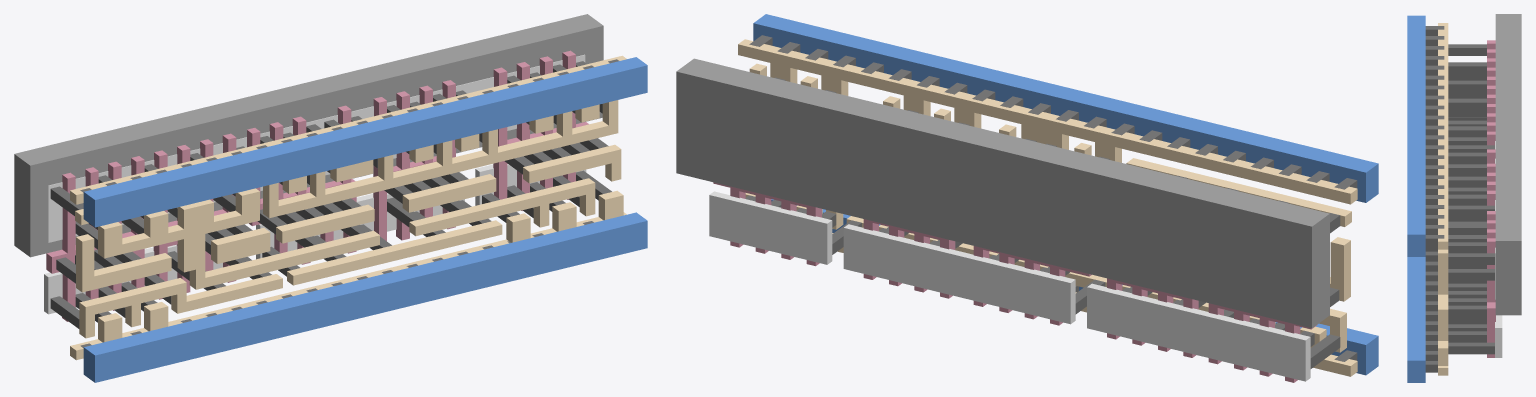
The model's file is sky130_fd_sc_hd__a32oi_4.gds.gltf.
3 renders of one model, left to right at view 1: azimuth 30°, elevation 25°; view 2: azimuth 150°, elevation 25°; view 3: azimuth 270°, elevation 25°, orthographic. The views are drawn at different scales.
Visible parts, largest first — view 1: sky130_fd_sc_hd__a32oi_4_li1, sky130_fd_sc_hd__a32oi_4_met1, sky130_fd_sc_hd__a32oi_4_nwell, sky130_fd_sc_hd__a32oi_4_licon, sky130_fd_sc_hd__a32oi_4_poly, sky130_fd_sc_hd__a32oi_4_diff, sky130_fd_sc_hd__a32oi_4_mcon; view 2: sky130_fd_sc_hd__a32oi_4_nwell, sky130_fd_sc_hd__a32oi_4_diff, sky130_fd_sc_hd__a32oi_4_li1, sky130_fd_sc_hd__a32oi_4_met1, sky130_fd_sc_hd__a32oi_4_poly, sky130_fd_sc_hd__a32oi_4_mcon, sky130_fd_sc_hd__a32oi_4_licon; view 3: sky130_fd_sc_hd__a32oi_4_licon, sky130_fd_sc_hd__a32oi_4_nwell, sky130_fd_sc_hd__a32oi_4_met1, sky130_fd_sc_hd__a32oi_4_mcon, sky130_fd_sc_hd__a32oi_4_li1, sky130_fd_sc_hd__a32oi_4_poly, sky130_fd_sc_hd__a32oi_4_diff.
Boxes of the visible parts, <box> form: sky130_fd_sc_hd__a32oi_4_li1: <box>70,55,626,360</box>; sky130_fd_sc_hd__a32oi_4_met1: <box>83,57,647,382</box>; sky130_fd_sc_hd__a32oi_4_nwell: <box>14,14,603,257</box>; sky130_fd_sc_hd__a32oi_4_licon: <box>50,61,611,328</box>; sky130_fd_sc_hd__a32oi_4_poly: <box>46,50,588,321</box>; sky130_fd_sc_hd__a32oi_4_diff: <box>44,54,586,314</box>; sky130_fd_sc_hd__a32oi_4_mcon: <box>80,59,618,347</box>; sky130_fd_sc_hd__a32oi_4_nwell: <box>676,58,1329,328</box>; sky130_fd_sc_hd__a32oi_4_diff: <box>709,191,1310,381</box>; sky130_fd_sc_hd__a32oi_4_li1: <box>738,39,1357,376</box>; sky130_fd_sc_hd__a32oi_4_met1: <box>753,14,1378,375</box>; sky130_fd_sc_hd__a32oi_4_poly: <box>713,182,1317,382</box>; sky130_fd_sc_hd__a32oi_4_mcon: <box>749,35,1357,361</box>; sky130_fd_sc_hd__a32oi_4_licon: <box>745,77,1340,368</box>; sky130_fd_sc_hd__a32oi_4_licon: <box>1448,44,1494,354</box>; sky130_fd_sc_hd__a32oi_4_nwell: <box>1495,14,1521,315</box>; sky130_fd_sc_hd__a32oi_4_met1: <box>1407,15,1425,382</box>; sky130_fd_sc_hd__a32oi_4_mcon: <box>1425,26,1444,372</box>; sky130_fd_sc_hd__a32oi_4_li1: <box>1438,23,1448,375</box>; sky130_fd_sc_hd__a32oi_4_poly: <box>1487,40,1495,357</box>; sky130_fd_sc_hd__a32oi_4_diff: <box>1495,141,1502,357</box>.
Bounding box in the file's own units: 10.5 × 3.2 × 2.24.
